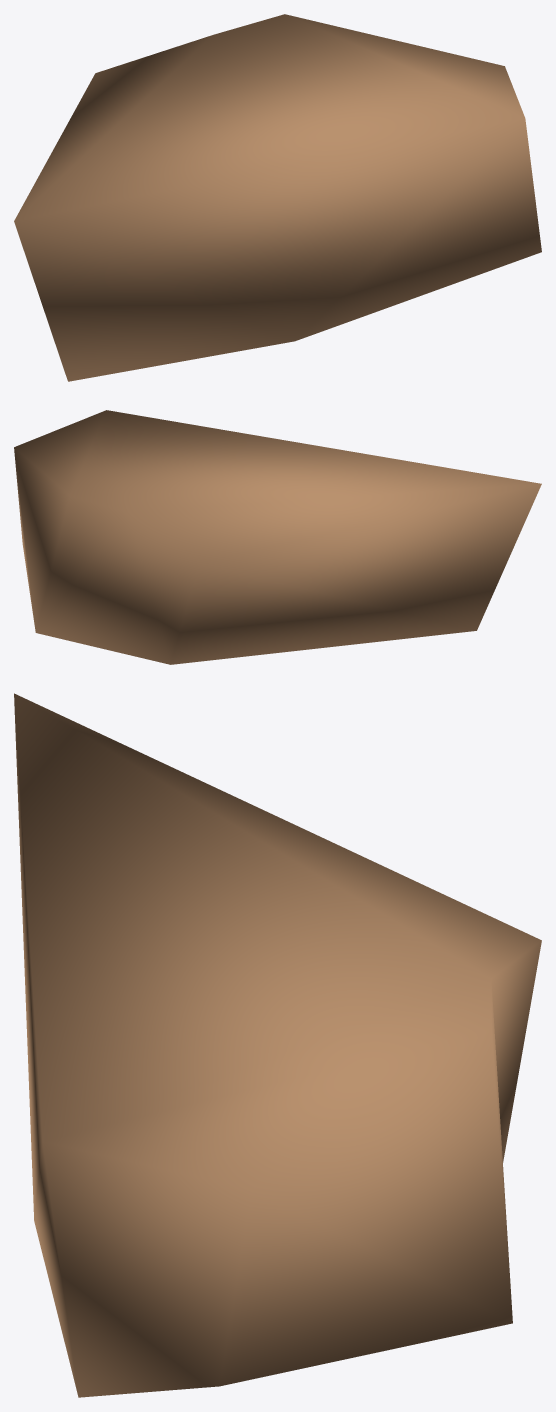
The model's file is MSH_Rock_Single_34.FBX.
3 renders of one model, top to bottom at view 1: azimuth 30°, elevation 25°; view 2: azimuth 150°, elevation 25°; view 3: azimuth 270°, elevation 25°, orthographic. The views are drawn at different scales.
Visible parts, largest first — view 1: MESH_ROCK_10; view 2: MESH_ROCK_10; view 3: MESH_ROCK_10.
Boxes of the visible parts, x1=… form: MESH_ROCK_10: x1=14, y1=14, x2=541, y2=381; MESH_ROCK_10: x1=14, y1=410, x2=541, y2=664; MESH_ROCK_10: x1=14, y1=693, x2=541, y2=1397.
Size of the model in its own units: 16.57 by 5.45 by 8.49.
